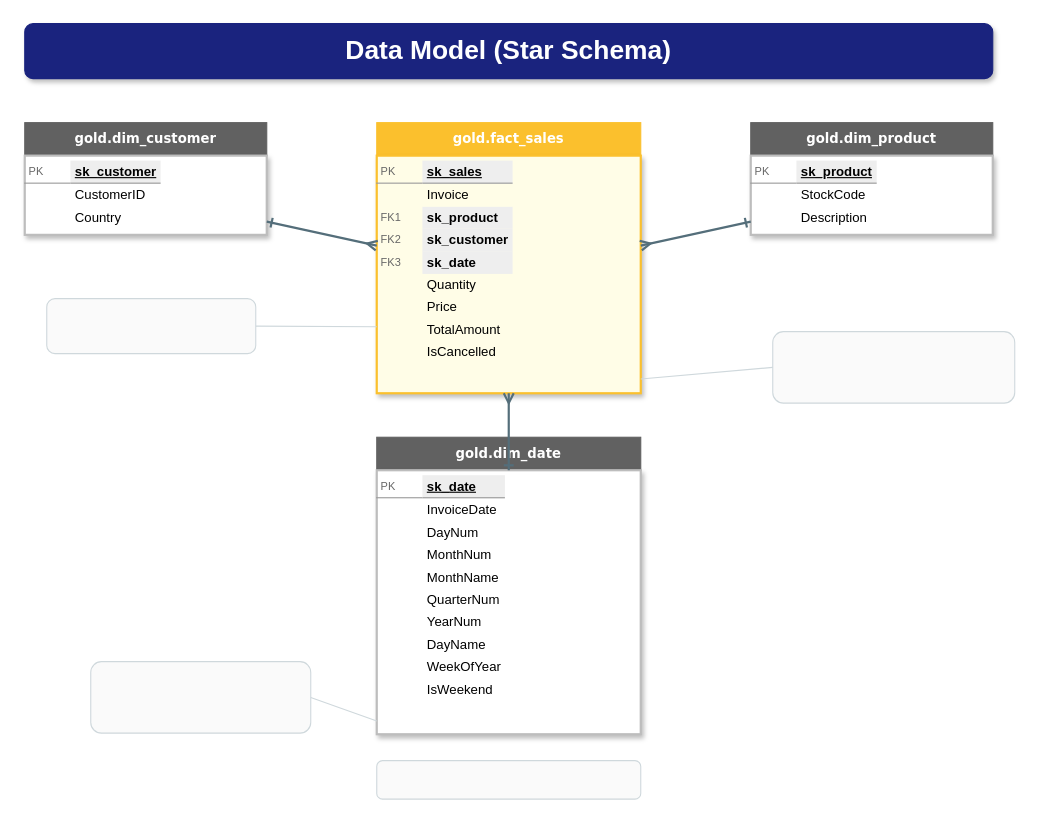
Image size: 1051x818. Some labels were removed from this diagram. The shapes that lost their labels are listed below. From the top down, each one's centre as x and y in pixels, then its label:
the point at 151,326: Sales Calculation TotalAmount = Quantity * Price
the point at 893,367: IsCancelled - 1 = Cancelled Invoice (Invoice LIKE 'C%') - 0 = Normal Sale
the point at 200,697: IsWeekend - 1 = Weekend (Sat/Sun) - 0 = Weekday
the point at 508,779: Unknown Members sk = -1 → 'Unknown Customer' / 'Unknown Product'
